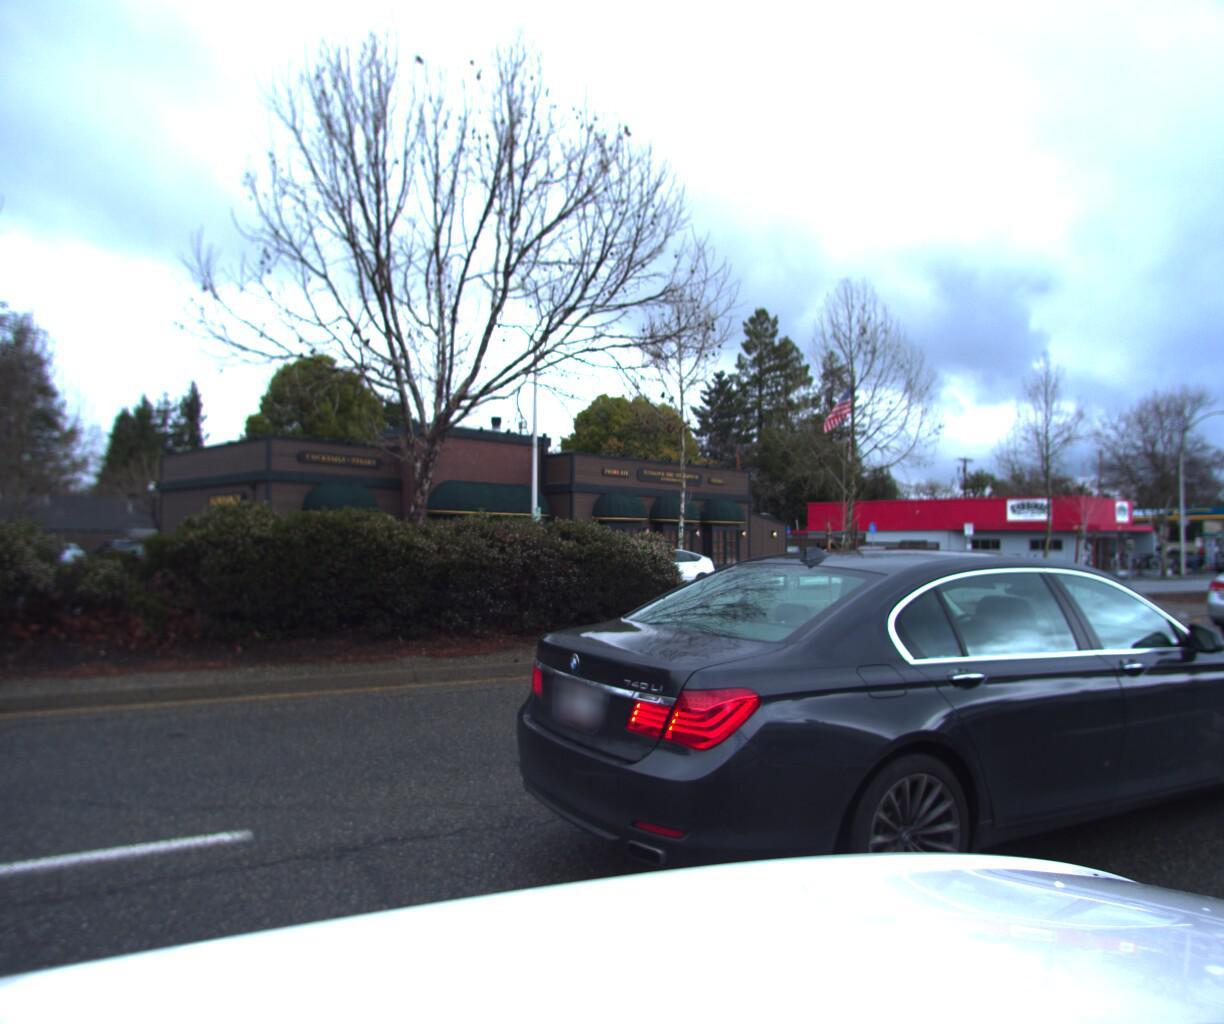bicycle: (1012, 546, 1032, 568)
car: (480, 539, 1224, 1024), (587, 541, 721, 596), (739, 540, 865, 589), (1176, 535, 1224, 654), (847, 535, 889, 571)
